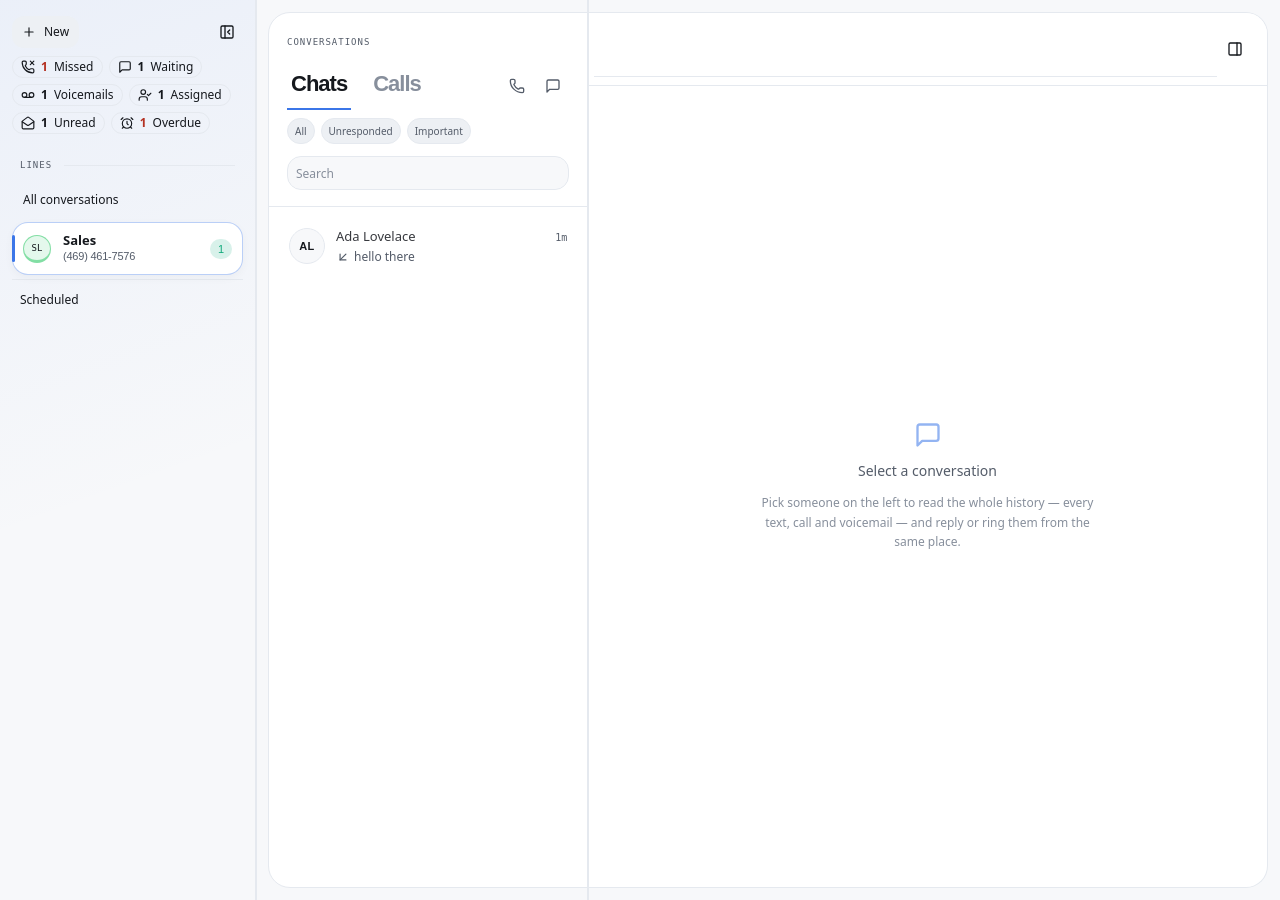
Scenario: ConversationsPage › marks a conversation as important via the header star and shows it starred in the list
Click the button "AL Ada Lovelace 1m hello there" at point(307, 246), box top-left (279, 211), bottom-right (577, 282)
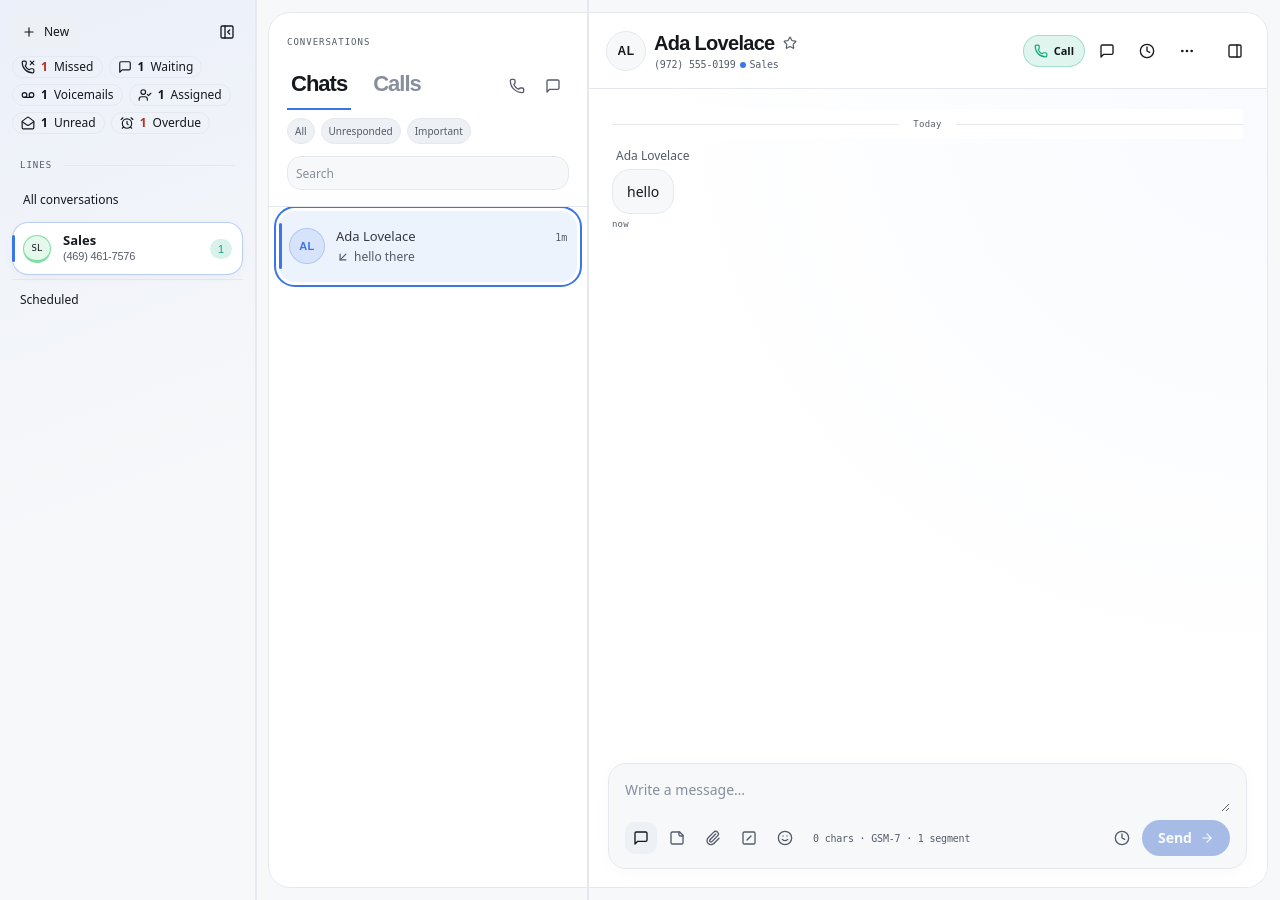
Click the button named "Mark as important" at point(790, 43), box top-left (780, 34), bottom-right (798, 52)
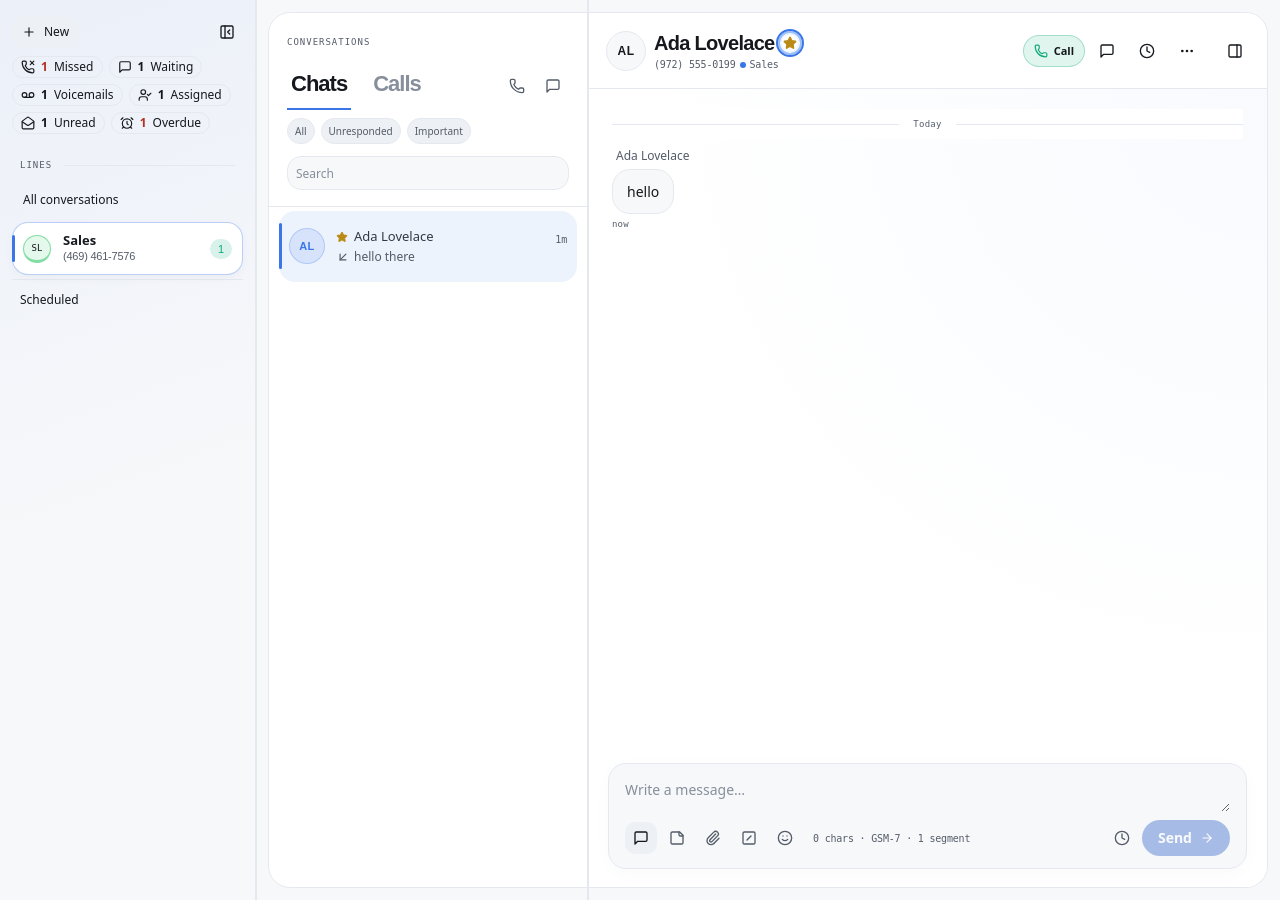
Expected: the icon named "Important" is shown, top-left (336, 231), bottom-right (348, 243)
